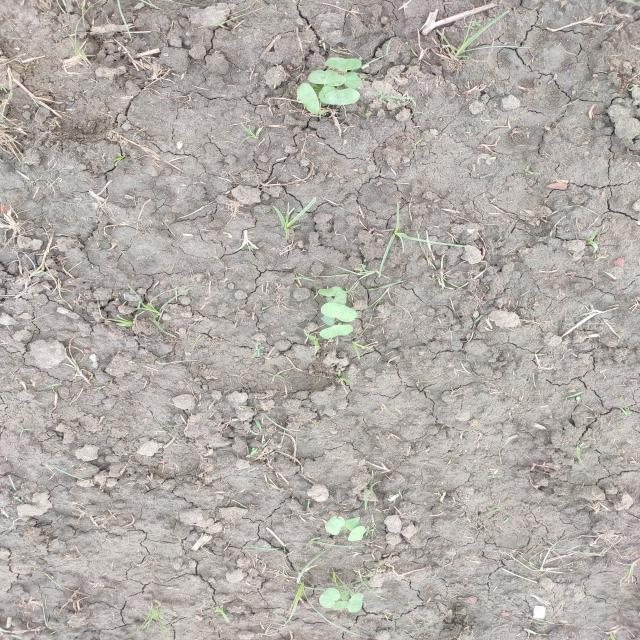seedling: (321, 302, 357, 322), (297, 83, 319, 114), (308, 69, 346, 86), (325, 88, 359, 105), (325, 57, 361, 71), (319, 587, 340, 608), (320, 325, 353, 338), (325, 516, 345, 535), (318, 85, 336, 104), (348, 593, 364, 613), (344, 72, 361, 89), (348, 526, 365, 542), (318, 286, 342, 296), (332, 290, 347, 305), (344, 517, 360, 531), (320, 315, 335, 326), (333, 600, 348, 610), (340, 589, 350, 601)
